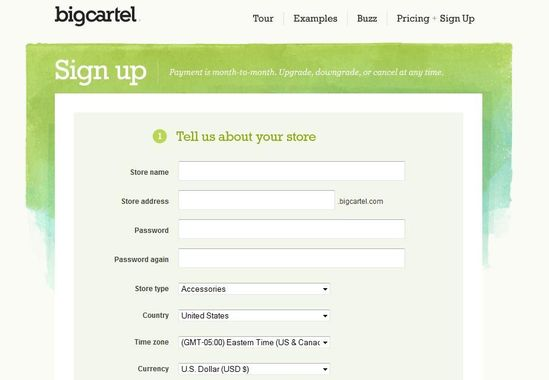_form_: (52, 1, 468, 380)
field: (175, 217, 408, 242), (175, 160, 407, 183), (174, 247, 408, 269), (175, 189, 339, 210), (175, 281, 333, 299), (174, 335, 332, 353), (176, 307, 334, 324), (174, 362, 335, 378)
field_with_label: (135, 215, 410, 244), (113, 246, 409, 271), (128, 160, 412, 185), (122, 188, 342, 212), (133, 279, 335, 301), (134, 333, 334, 354), (142, 306, 336, 326), (137, 361, 336, 380)
